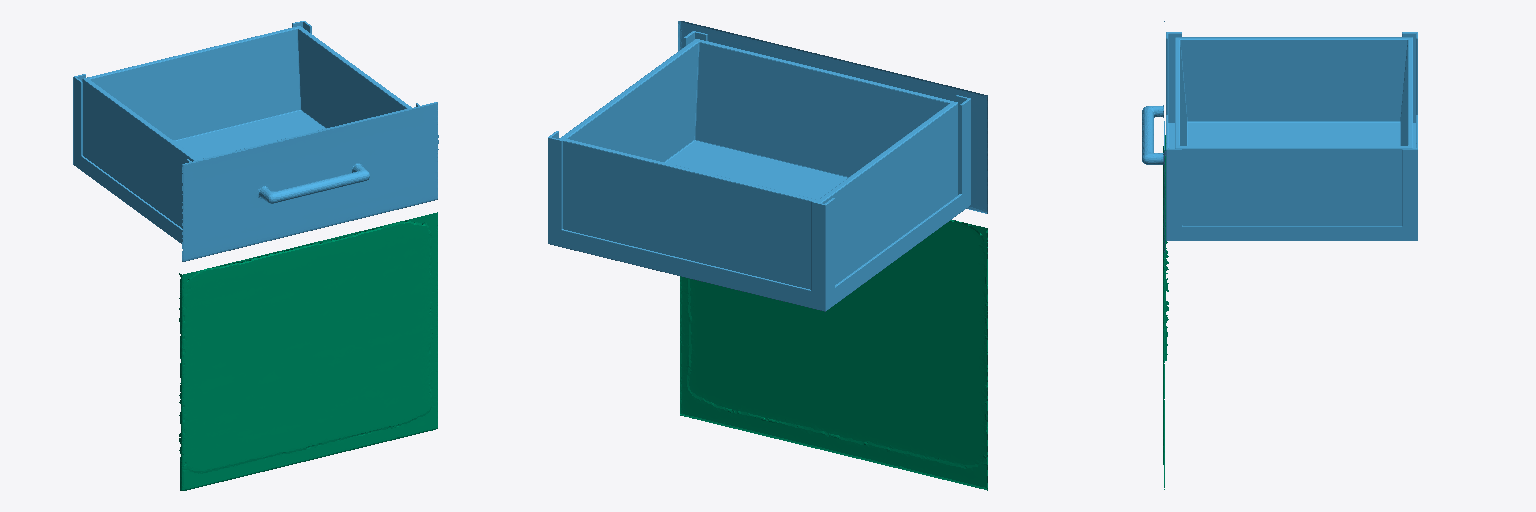
The robot description file, URDF, robot "nightstand-02":
<robot name="nightstand-02">
  <link name="body">
    <inertial>
      <origin xyz="0.000805 0.038096 0.040410" />
      <mass value="120.0000" />
      <inertia ixx="2.790032" iyy="3.790621" izz="2.127803" ixy="0" ixz="0" iyz="0" />
    </inertial>
    <visual>
      <geometry>
        <mesh filename="meshes/body.stl" />
      </geometry>
    </visual>
    <collision><geometry><mesh filename="collision/body_hull00.stl" /></geometry></collision><collision><geometry><mesh filename="collision/body_hull02.stl" /></geometry></collision><collision><geometry><mesh filename="collision/body_hull03.stl" /></geometry></collision><collision><geometry><mesh filename="collision/body_hull08.stl" /></geometry></collision><collision><geometry><mesh filename="collision/body_hull09.stl" /></geometry></collision><collision><geometry><mesh filename="collision/body_hull11.stl" /></geometry></collision></link>
  <link name="drawer_top">
    <inertial>
      <origin xyz="0.001308 -0.240516 0.002092" />
      <mass value="1.0466" />
      <inertia ixx="0.025051" iyy="0.012608" izz="0.014740" ixy="0" ixz="0" iyz="0" />
    </inertial>
    <visual>
      <geometry>
        <mesh filename="meshes/drawer_top.stl" />
      </geometry>
    </visual>
    <collision><geometry><mesh filename="collision/drawer_top_hull00.stl" /></geometry></collision></link>
  <link name="door_bottom">
    <inertial>
      <origin xyz="0.172475 -0.011374 -0.068935" />
      <mass value="0.5000" />
      <inertia ixx="0.002340" iyy="0.006997" izz="0.004560" ixy="0" ixz="0" iyz="0" />
    </inertial>
    <visual>
      <geometry>
        <mesh filename="meshes/door_bottom.stl" />
      </geometry>
    </visual>
    <collision><geometry><mesh filename="collision/door_bottom_hull00.stl" /></geometry></collision></link>
  <joint name="drawer_top_joint" type="prismatic">
    <parent link="body" />
    <child link="drawer_top" />
    <origin xyz="0.000605 -0.015579 0.170797" rpy="0 0 0" />
    <axis xyz="0.000000 -1.000000 0.000000" />
    <limit lower="0.000000" upper="0.239200" effort="50.0" velocity="1.0" />
  </joint>
  <joint name="door_bottom_joint" type="revolute">
    <parent link="body" />
    <child link="door_bottom" />
    <origin xyz="-0.173249 -0.143140 0.006562" rpy="0 0 0" />
    <axis xyz="-0.001974 0.000506 -0.999998" />
    <limit lower="0.000000" upper="1.570796" effort="50.0" velocity="1.0" />
  </joint>
</robot>

--- Facts derived from the render (not from the file) ---
The picture shows the robot from 3 angles, left to right: view 1: azimuth 30°, elevation 25°; view 2: azimuth 150°, elevation 25°; view 3: azimuth 270°, elevation 25°; orthographic projection.
Robot: nightstand-02 — 3 links, 2 joints (1 revolute, 1 prismatic); root link body; default pose: every joint at zero.
Visible links, largest first — view 1: drawer_top, door_bottom; view 2: drawer_top, door_bottom; view 3: drawer_top, door_bottom.
Boxes of the visible links, x1,y1,x2,y2 form: drawer_top: [73, 21, 438, 261]; door_bottom: [179, 212, 437, 490]; drawer_top: [548, 21, 987, 311]; door_bottom: [680, 220, 987, 490]; drawer_top: [1142, 21, 1417, 252]; door_bottom: [1163, 135, 1168, 489].
Bounding box of the posed robot: 0.3463 × 0.3095 × 0.4213 m (x, y, z).
2 mesh visuals loaded from 3 distinct referenced files (2 binary STL); not drawn: 1 (reference not matched to a file when rendering).
